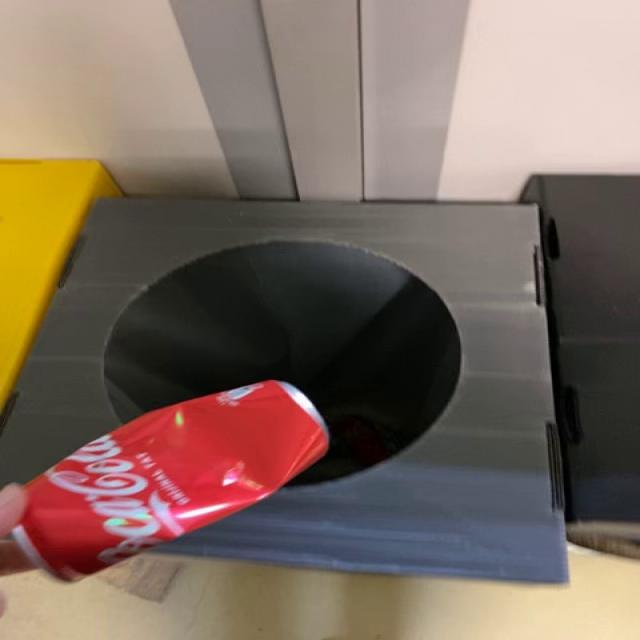bin: (1, 200, 569, 584)
metal: (12, 381, 329, 581)
